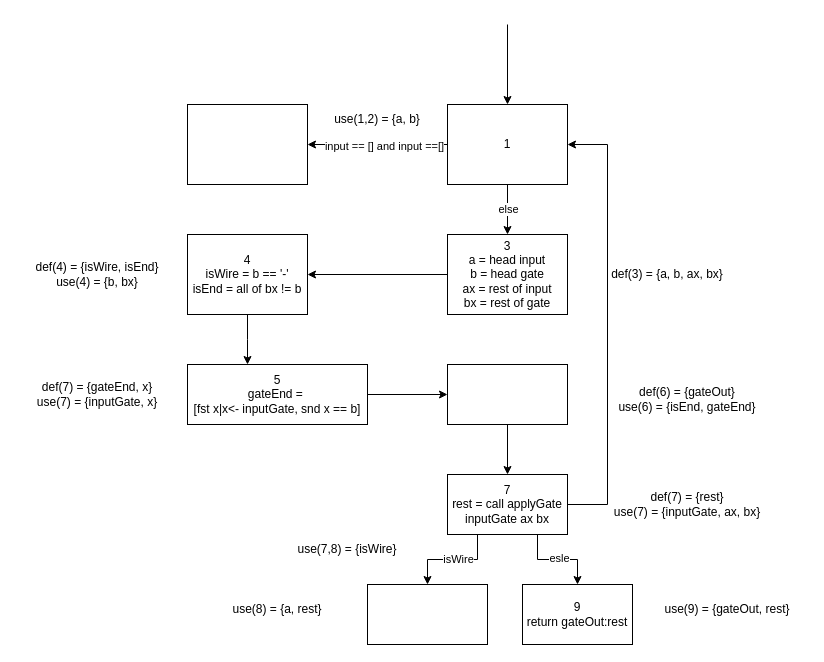
Some shapes in this 824 by 662 pixel diagram are drawn without their labels. The shapes that lost their labels are listed below. From the top down, each one's centre as x and y in pixels, then its label:
[247,144]: 2 return []
[507,394]: 6 gateOut = isEnd ? max gateEnd : min gateEnd
[427,614]: 8 return a:rest
